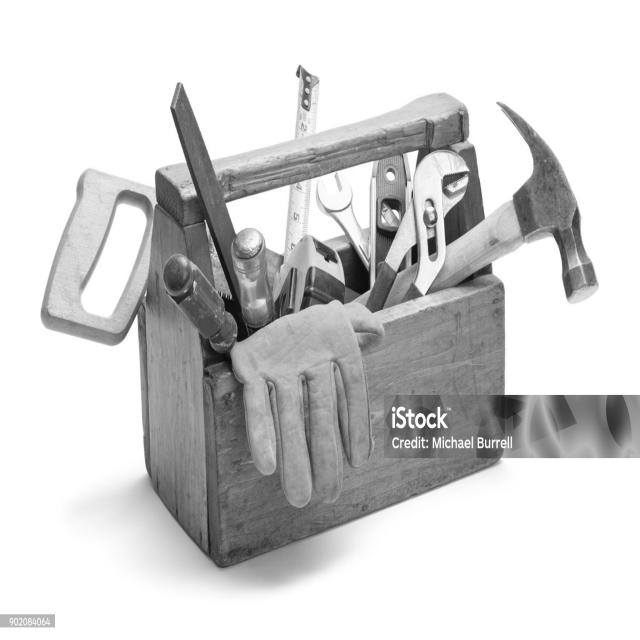file: (167, 68, 247, 311)
golves: (229, 294, 382, 510)
hammer: (358, 68, 623, 318)
level: (363, 119, 418, 309)
measuring_tape: (275, 40, 349, 337)
saw: (32, 164, 359, 341)
screwdriver: (157, 244, 254, 354), (226, 220, 283, 344)
wrench: (367, 145, 478, 316), (308, 161, 374, 275)
